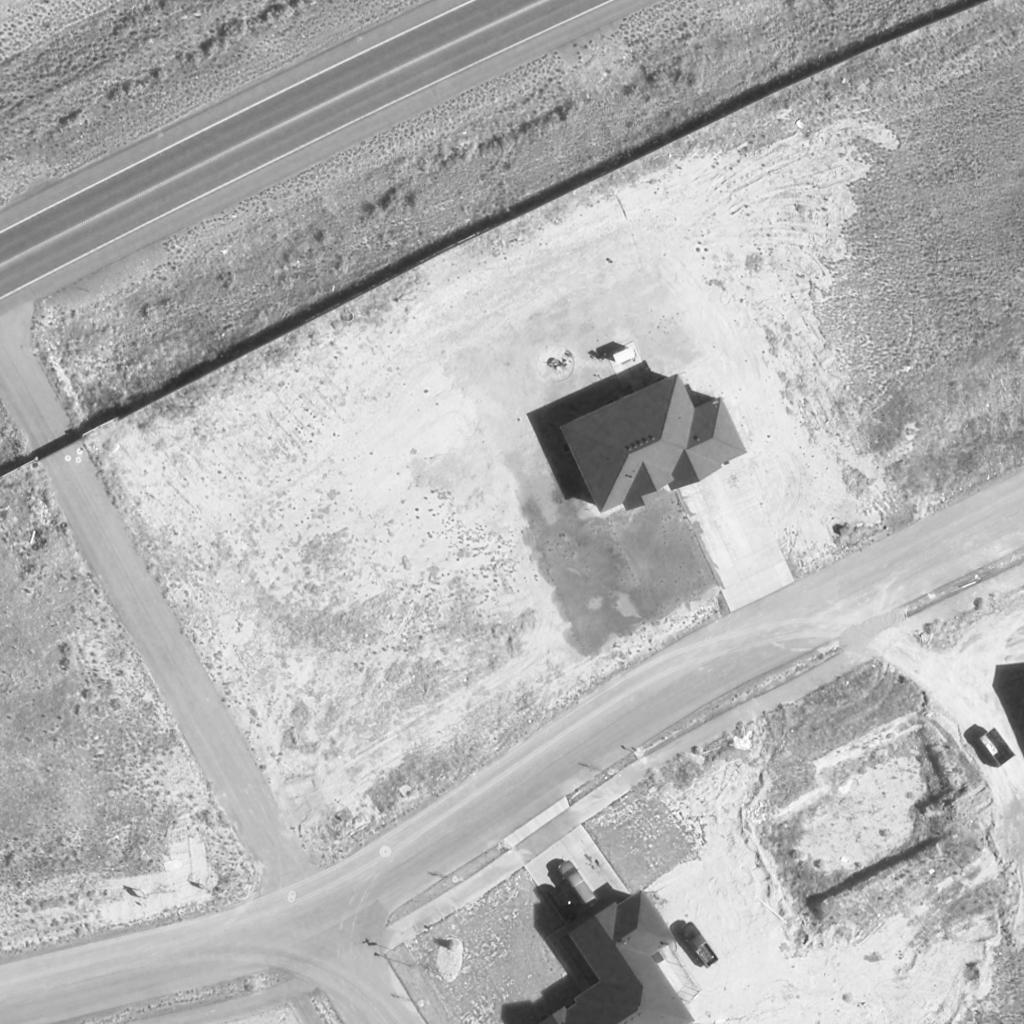vehicle: (678, 922, 720, 968), (557, 859, 597, 907), (548, 888, 578, 922)
